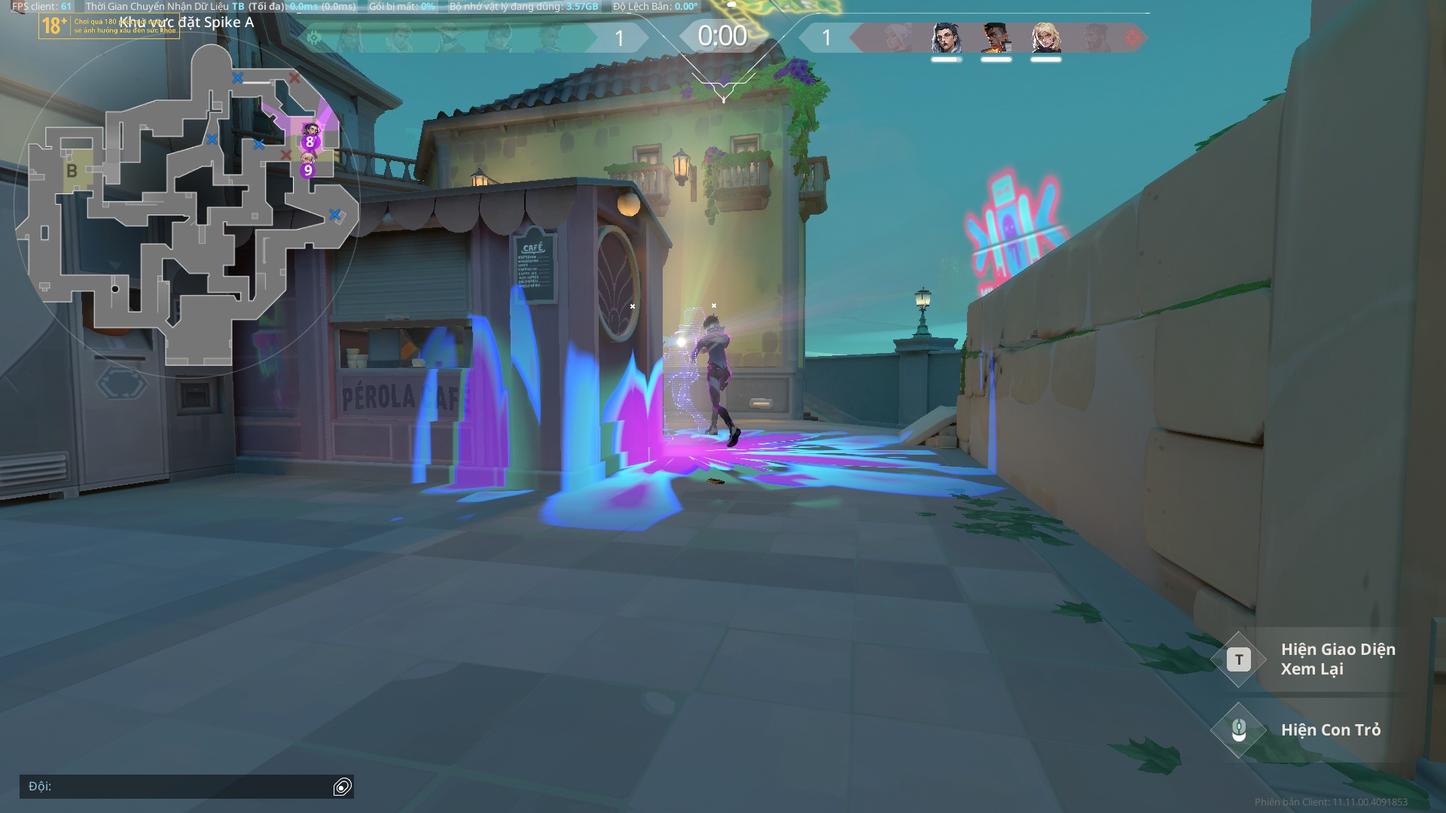body: (704, 327, 730, 366)
head: (702, 314, 725, 334)
